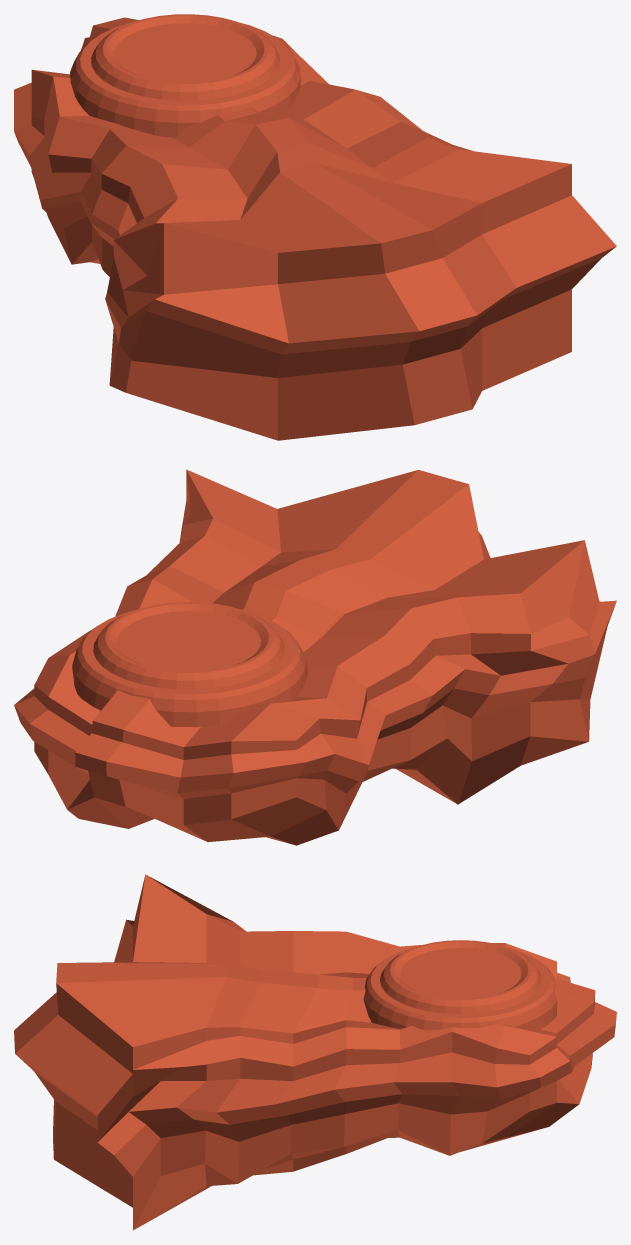
File: bases dioses.fbx
The picture shows the model from 3 angles, top to bottom: view 1: azimuth 30°, elevation 25°; view 2: azimuth 150°, elevation 25°; view 3: azimuth 270°, elevation 25°; orthographic projection. The views are drawn at different scales.
Parts seen in each view (by area): view 1: Cube.008, Cylinder.004; view 2: Cube.008, Cylinder.004; view 3: Cube.008, Cylinder.004.
Boxes of the visible parts, left/top/right/bottom form: Cube.008: left=14, top=17, right=616, bottom=440; Cylinder.004: left=69, top=14, right=300, bottom=137; Cube.008: left=14, top=469, right=616, bottom=845; Cylinder.004: left=72, top=602, right=307, bottom=727; Cube.008: left=14, top=874, right=616, bottom=1230; Cylinder.004: left=363, top=940, right=557, bottom=1030.
Size of the model in its own units: 56.15 by 29.88 by 75.49.
